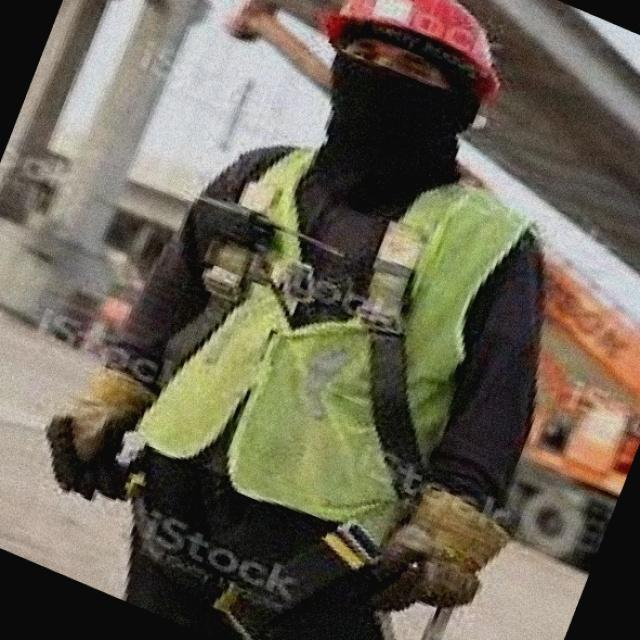Capacete: (321, 0, 499, 103)
Colete: (138, 284, 398, 539)
